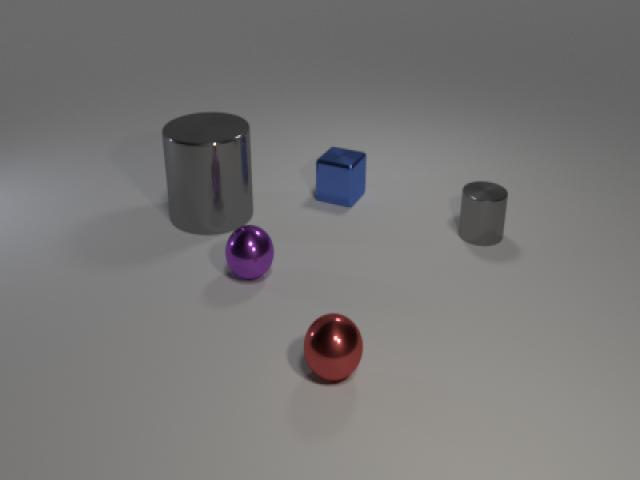cylinder: (154, 105, 258, 238), (453, 177, 513, 251)
round ball: (298, 308, 369, 386), (220, 221, 279, 285)
